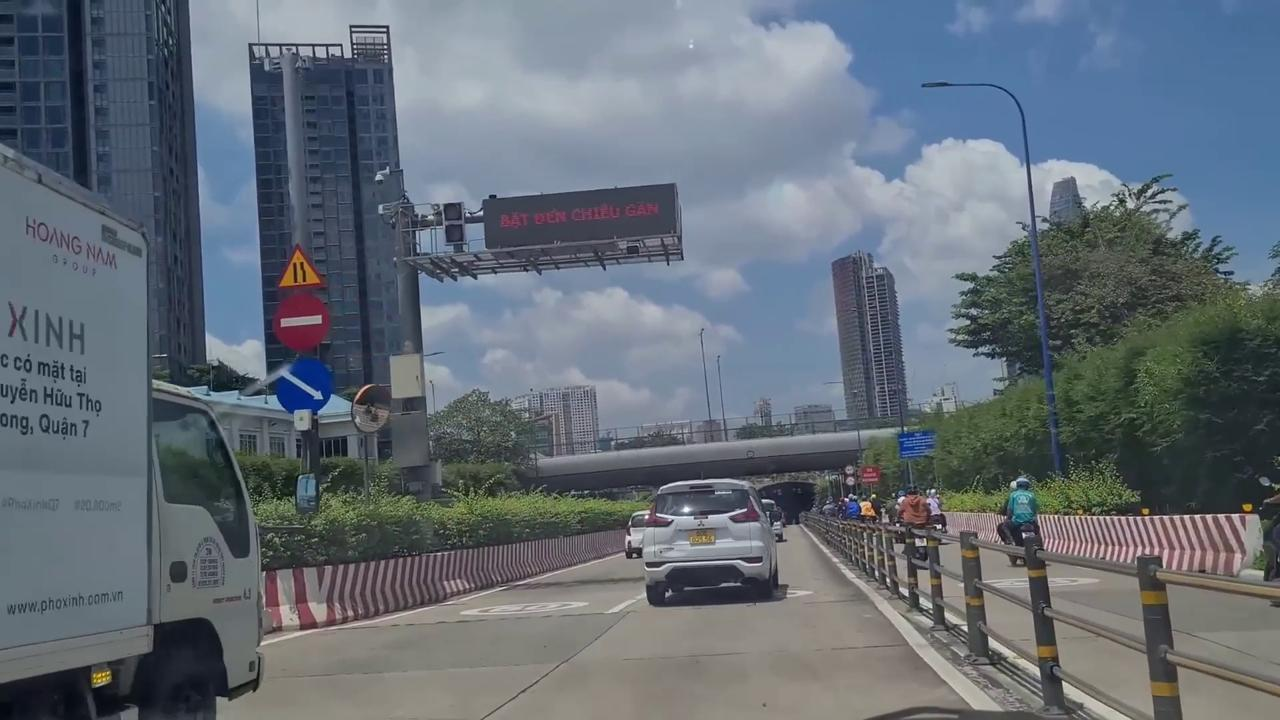Cấm đi ngược chiều: (270, 288, 333, 354)
Hướng phải đi vòng sang phải: (272, 355, 337, 415)
Đuờng hẹp: (266, 241, 331, 292)
